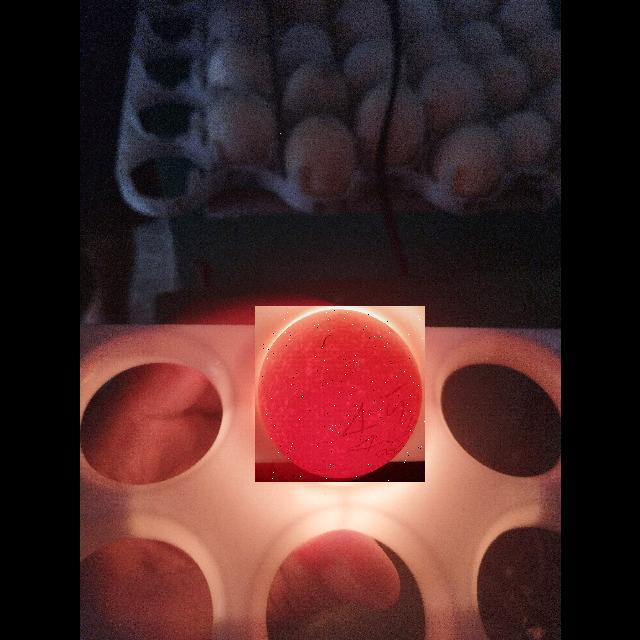A - Good: (255, 306, 425, 482)
